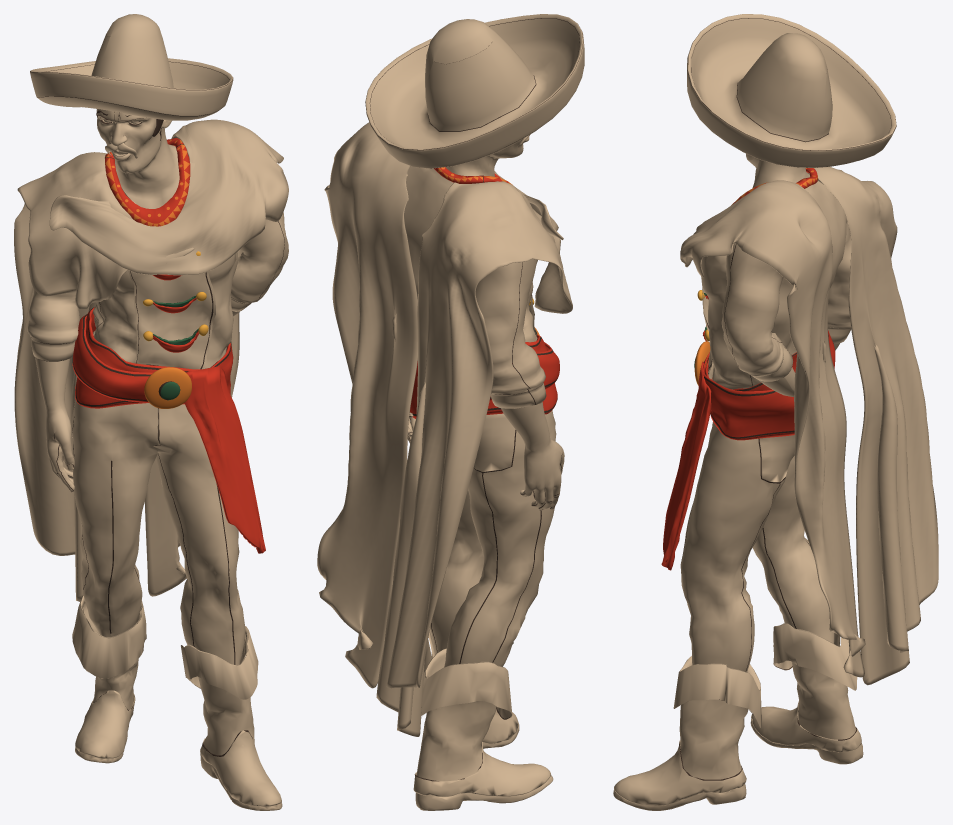
File: dontomas.glb
3 renders of one model, left to right at view 1: azimuth 30°, elevation 25°; view 2: azimuth 150°, elevation 25°; view 3: azimuth 270°, elevation 25°, orthographic. The views are drawn at different scales.
Visible parts, largest first — view 1: CC_Base_Eye.001, CC_Base_Body.003, cow boots.001, CC_Base_Tongue.001, CC_Base_Body.005, CC_Base_Body.002; view 2: CC_Base_Eye.001, CC_Base_Body.003, cow boots.001, CC_Base_Body.005, CC_Base_Tongue.001, CC_Base_Body.002; view 3: CC_Base_Eye.001, CC_Base_Body.003, cow boots.001, CC_Base_Tongue.001, CC_Base_Body.005, CC_Base_Body.002.
Boxes of the visible parts, x1,y1,x2,y2 form: CC_Base_Eye.001: [14, 119, 288, 665]; CC_Base_Body.003: [27, 14, 288, 369]; cow boots.001: [72, 595, 282, 810]; CC_Base_Tongue.001: [72, 307, 265, 664]; CC_Base_Body.005: [35, 109, 239, 492]; CC_Base_Body.002: [30, 35, 284, 369]; CC_Base_Eye.001: [317, 122, 572, 736]; CC_Base_Body.003: [365, 14, 584, 408]; cow boots.001: [413, 628, 553, 810]; CC_Base_Body.005: [407, 136, 564, 510]; CC_Base_Tongue.001: [410, 327, 559, 663]; CC_Base_Body.002: [365, 18, 583, 408]; CC_Base_Eye.001: [680, 167, 938, 685]; CC_Base_Body.003: [687, 14, 896, 389]; cow boots.001: [613, 623, 863, 810]; CC_Base_Tongue.001: [661, 330, 835, 671]; CC_Base_Body.005: [746, 153, 839, 396]; CC_Base_Body.002: [687, 18, 896, 386].
Bounding box in the file's own units: 0.5805 × 1.75 × 0.6958.
8 materials, 8 textured.
